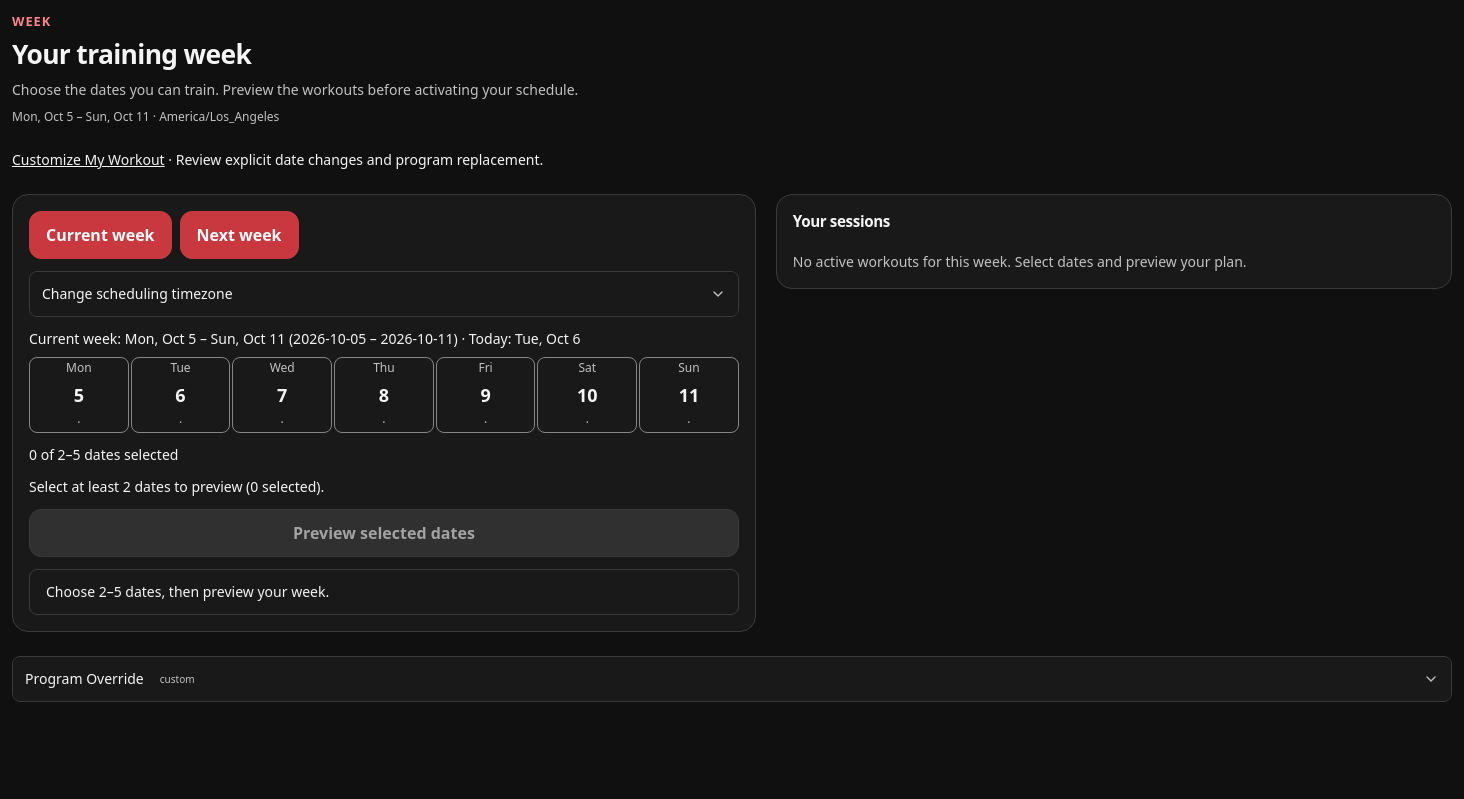
Test: an acknowledged activation stays saved when its refresh fails
Click the checkbox named "Tue, Oct 6" at (181, 395), box [131, 357, 230, 433]
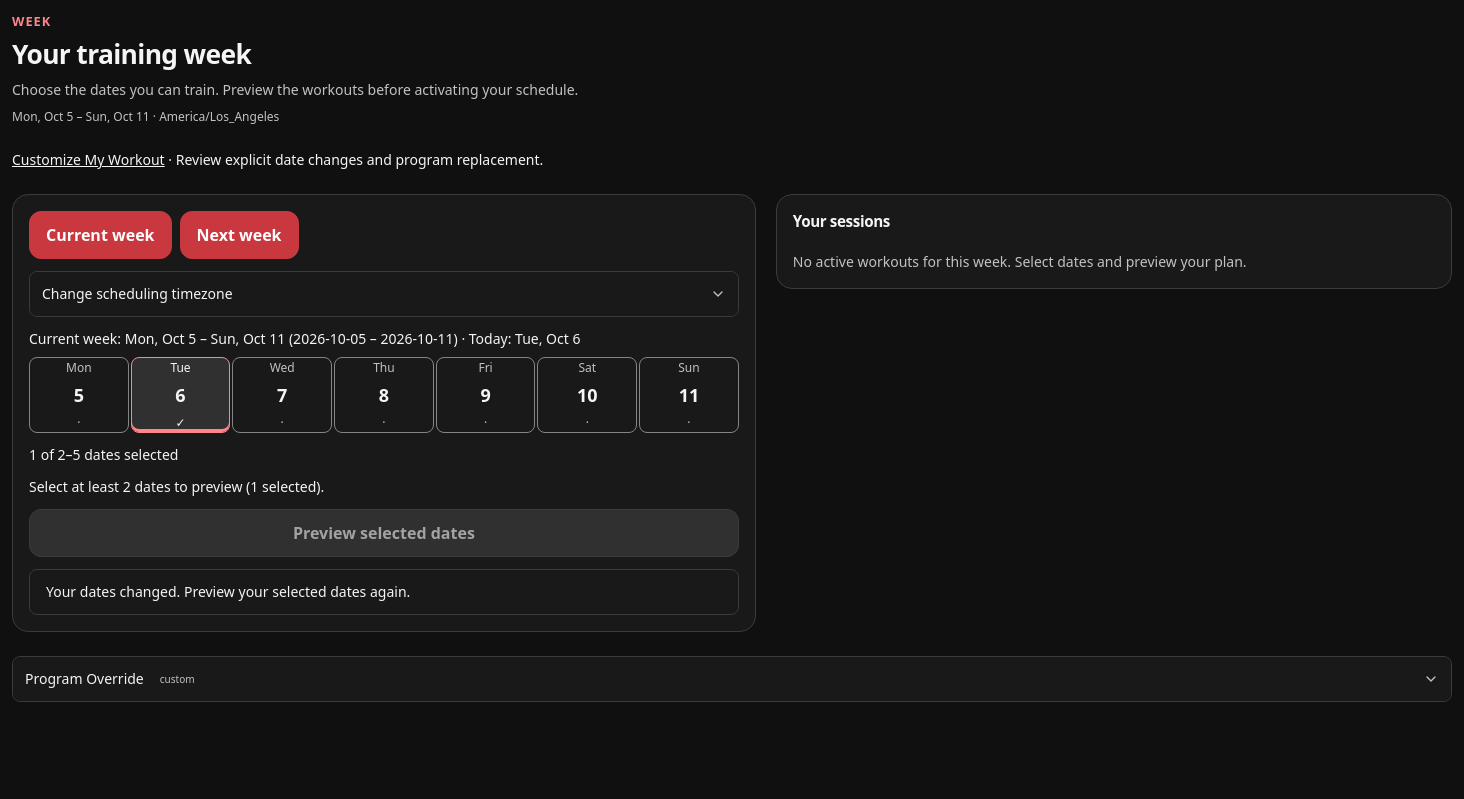
Click the checkbox named "Fri, Oct 9" at (486, 395), box [436, 357, 535, 433]
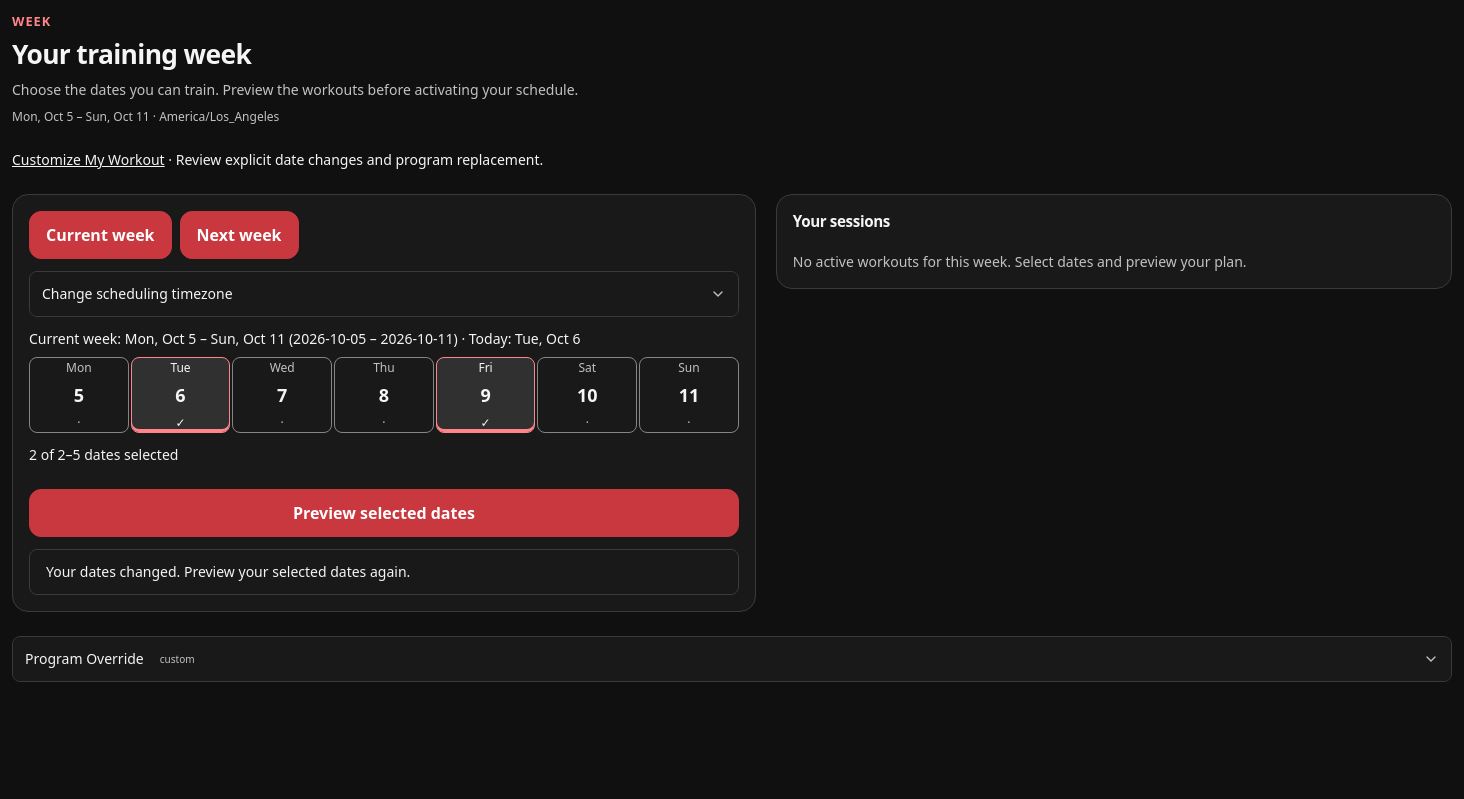
Click the checkbox named "Sun, Oct 11" at (689, 395), box [639, 357, 739, 433]
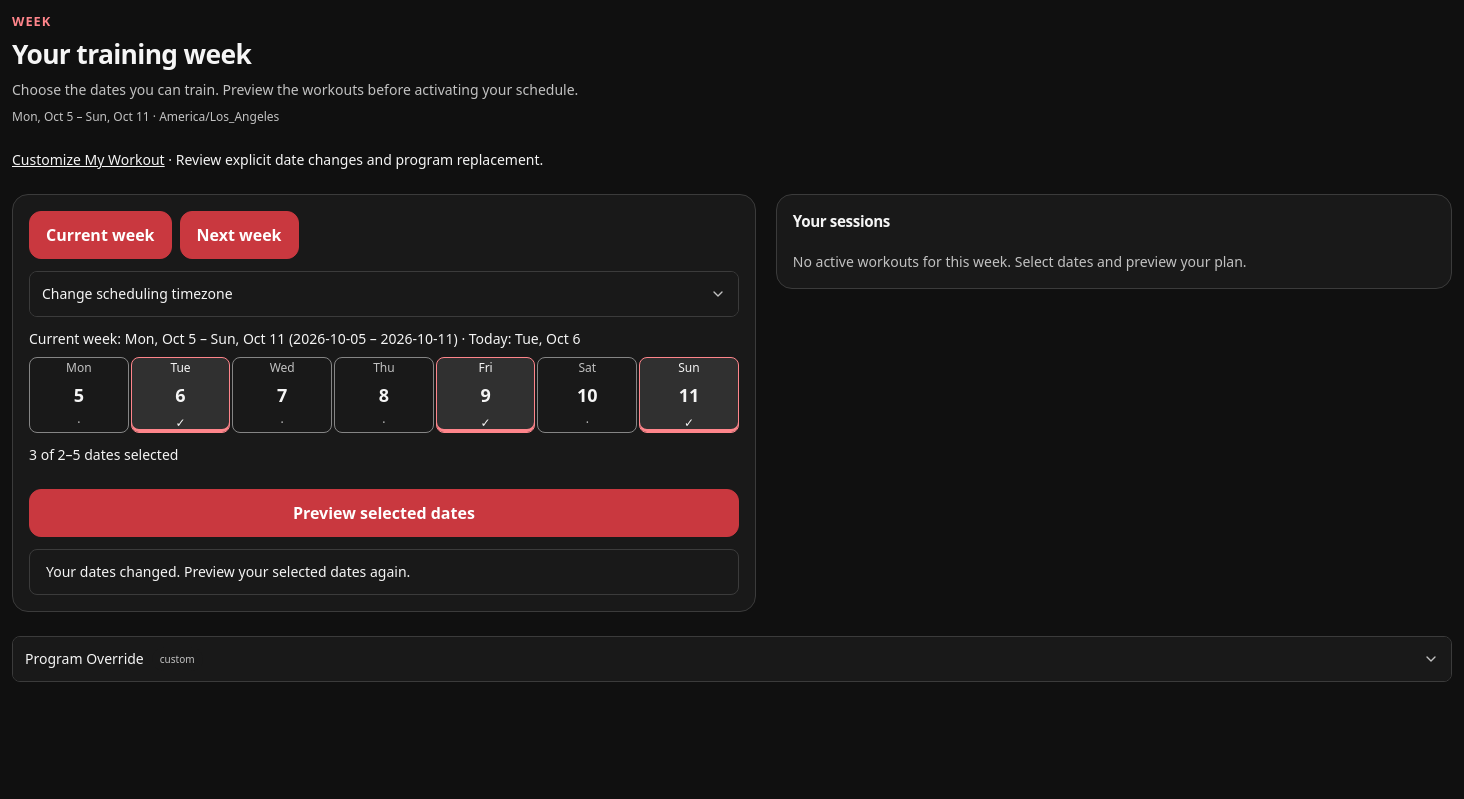
Click the button "Preview selected dates" at (384, 513), box [29, 489, 739, 537]
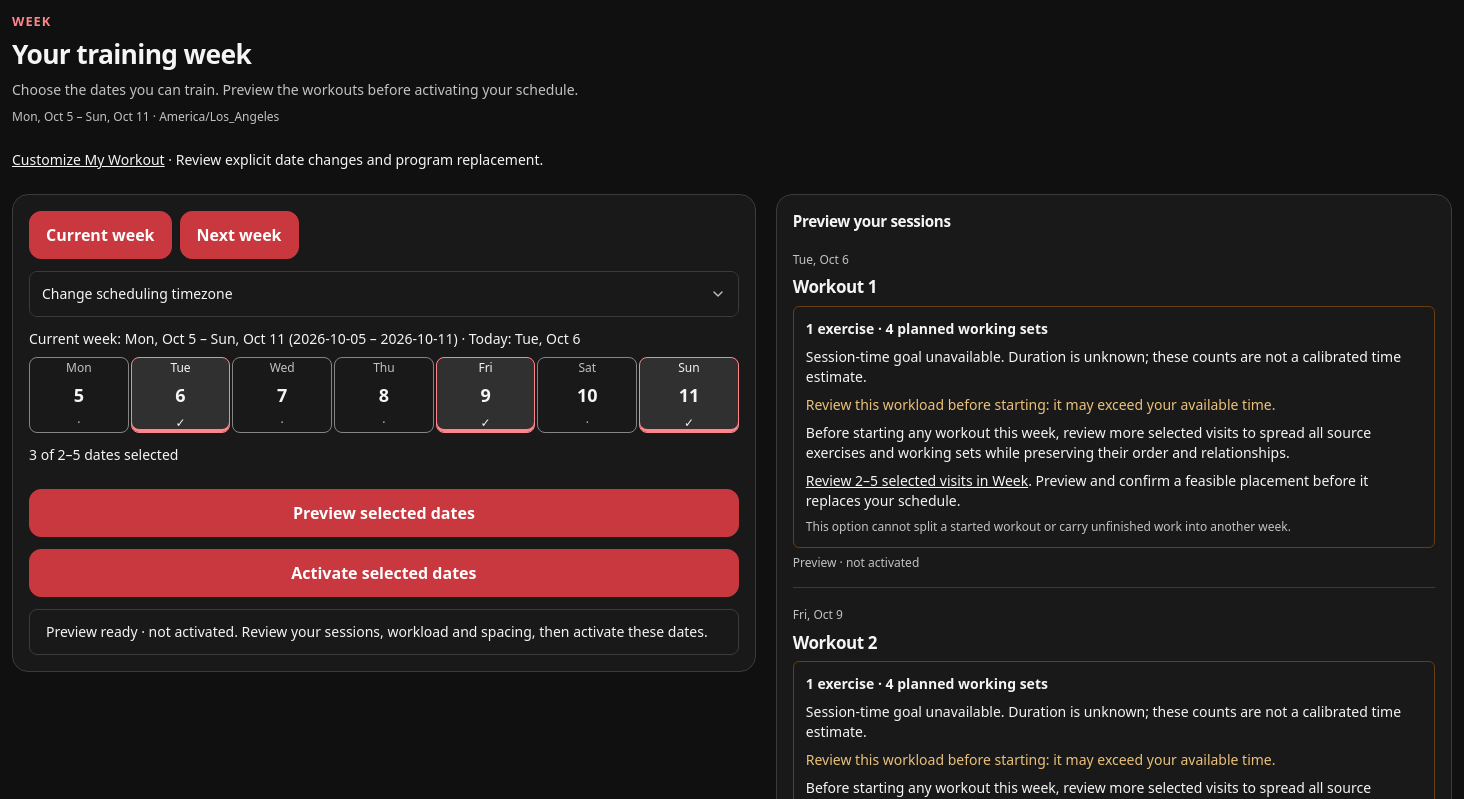
Click the button "Activate selected dates" at (384, 573), box [29, 549, 739, 597]
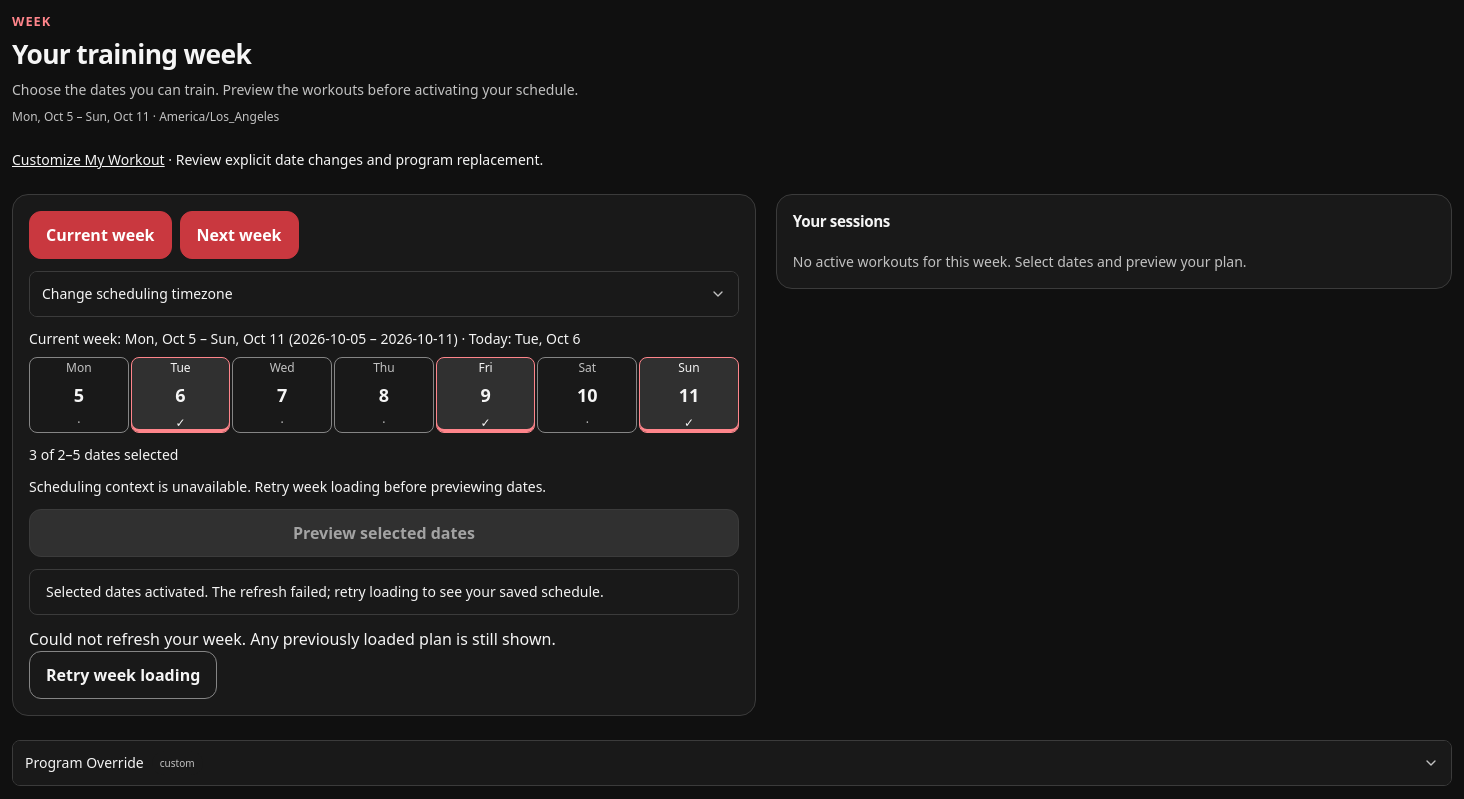
Now the button "Activate selected dates" is gone
Click the button "Retry week loading" at (123, 675), box [29, 651, 217, 699]
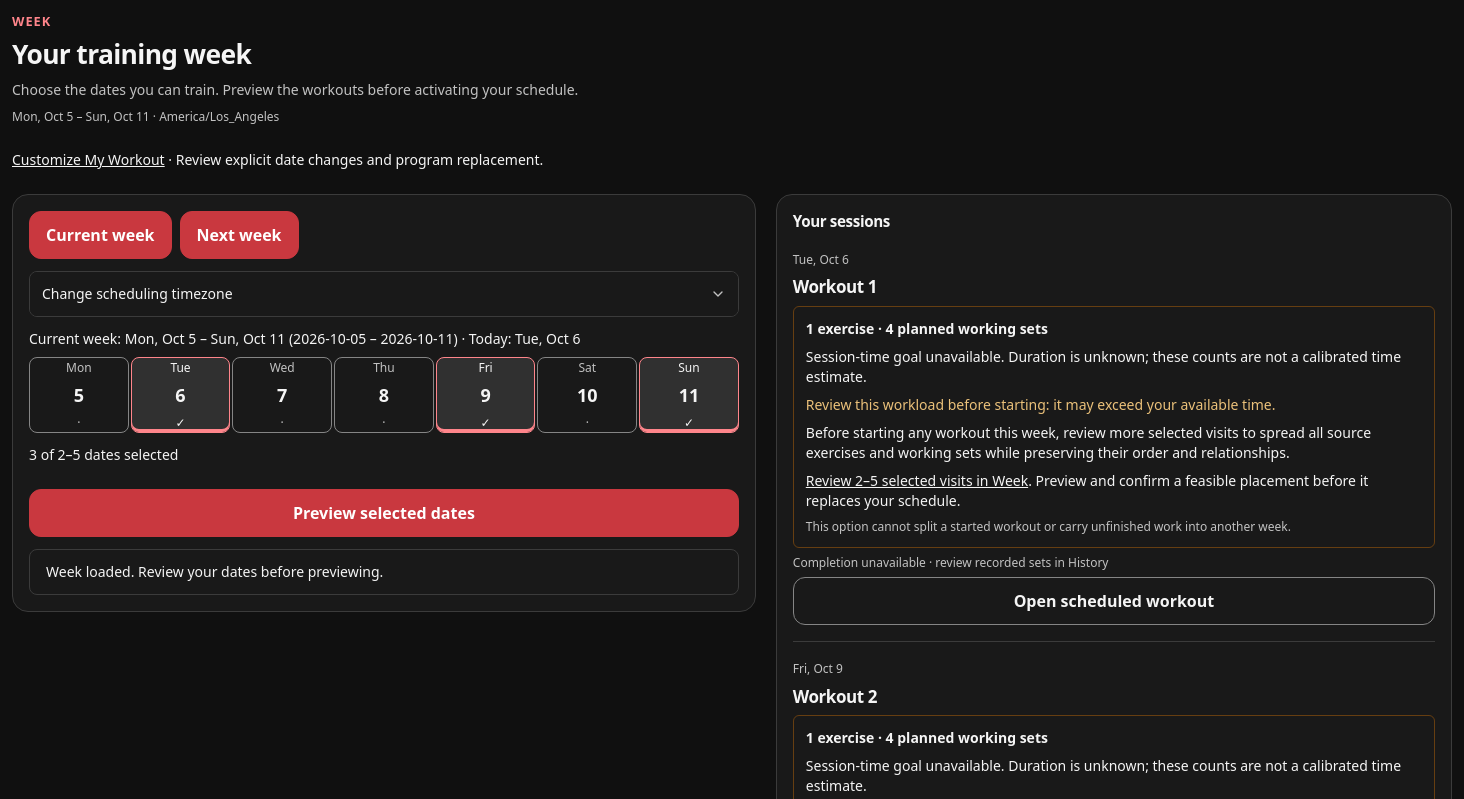
Now the text "Week loaded. Review your dates before previewing." is shown, box [46, 562, 383, 581]
